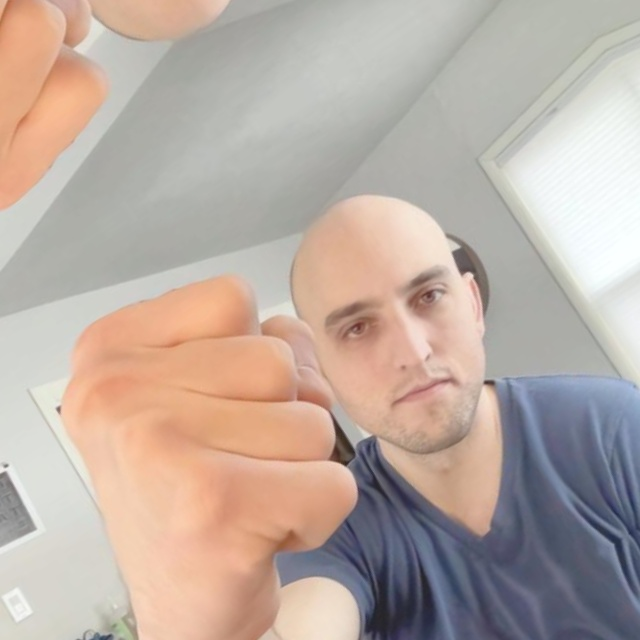Rock: (0, 0, 143, 289)
